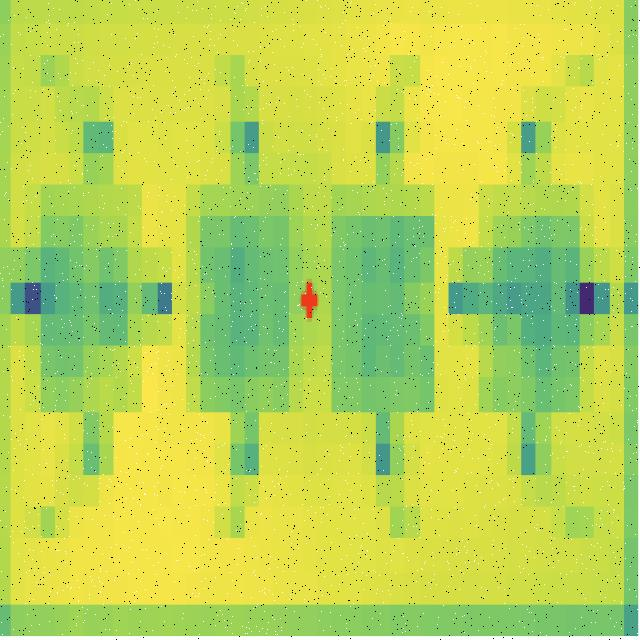Concrete: (327, 155, 443, 437)
Glass: (179, 163, 308, 429)
Metal: (476, 156, 588, 435)
Wood: (31, 167, 152, 435)
